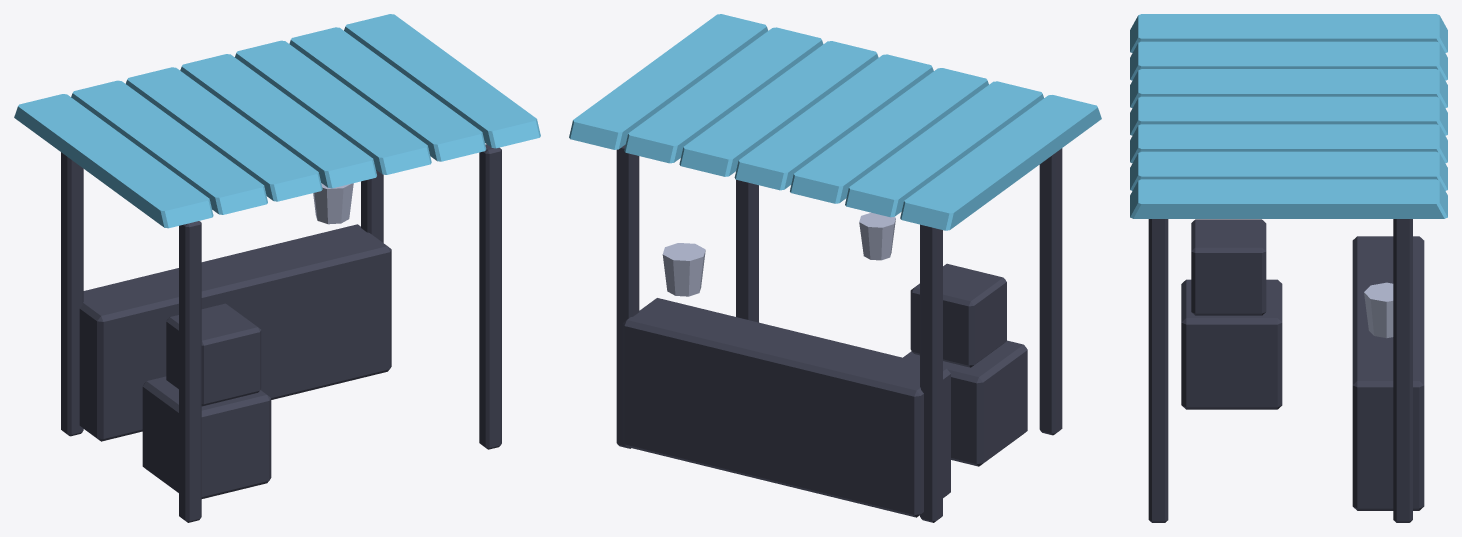
File: PasarStall.fbx
3 renders of one model, left to right at view 1: azimuth 30°, elevation 25°; view 2: azimuth 150°, elevation 25°; view 3: azimuth 270°, elevation 25°, orthographic. The views are drawn at different scales.
Visible parts, largest first — view 1: Pasar_Frame, Pasar_Awning, Pasar_Lantern; view 2: Pasar_Frame, Pasar_Awning, Pasar_Lantern; view 3: Pasar_Awning, Pasar_Frame, Pasar_Lantern.
Part boxes in pixels (x1,y1,x2,y2): Pasar_Frame: (61, 144, 501, 522); Pasar_Awning: (14, 14, 540, 228); Pasar_Lantern: (313, 183, 353, 224); Pasar_Frame: (616, 144, 1062, 522); Pasar_Awning: (569, 14, 1101, 230); Pasar_Lantern: (662, 212, 895, 296); Pasar_Awning: (1130, 14, 1447, 218); Pasar_Frame: (1148, 219, 1424, 522); Pasar_Lantern: (1364, 282, 1393, 338).
Bounding box in the file's own units: 2.76 × 2.27 × 1.95.
